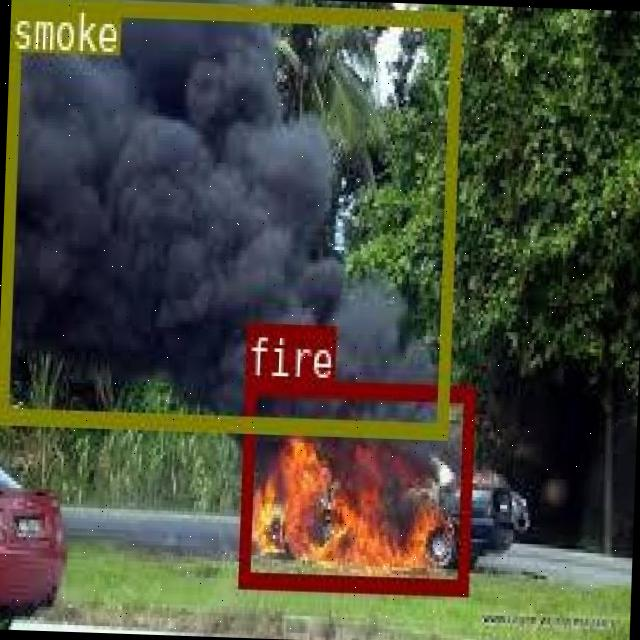fire: (236, 376, 472, 594)
smoke: (0, 0, 460, 434)
